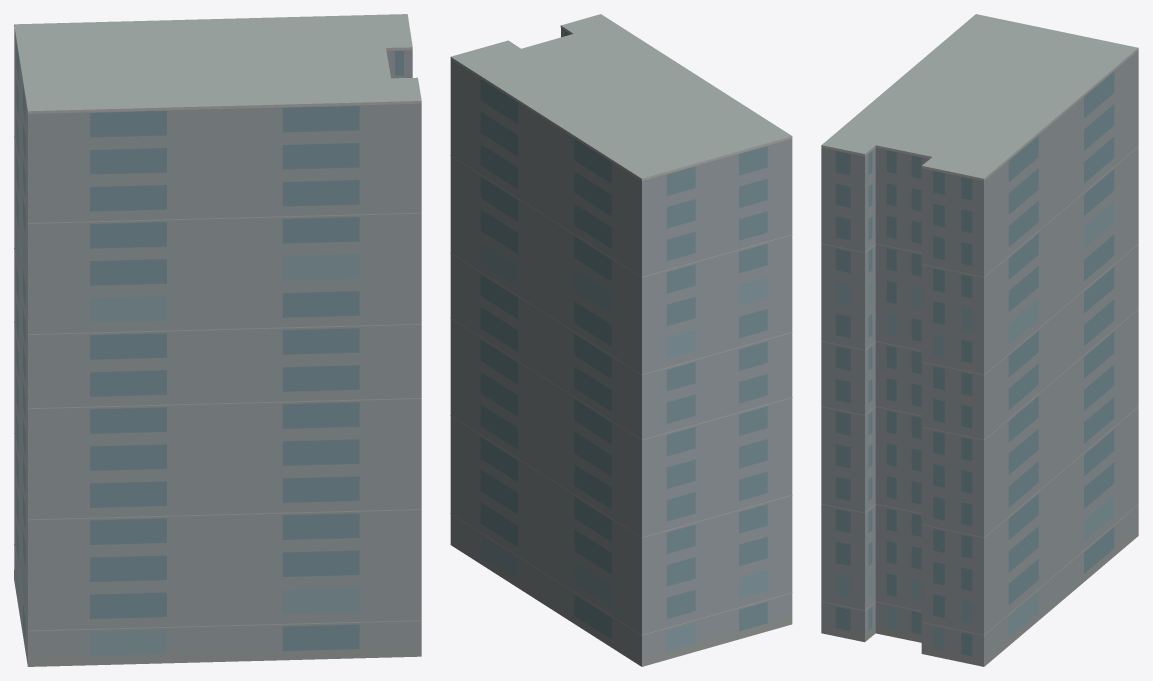
File: survey-upis-32890983.glb
3 renders of one model, left to right at view 1: azimuth 30°, elevation 25°; view 2: azimuth 150°, elevation 25°; view 3: azimuth 270°, elevation 25°, orthographic. The views are drawn at different scales.
Visible parts, largest first — view 1: survey-upis-32890983.tmp; view 2: survey-upis-32890983.tmp; view 3: survey-upis-32890983.tmp.
Part boxes in pixels (x1,y1,x2,y2): survey-upis-32890983.tmp: (14,14,421,666); survey-upis-32890983.tmp: (450,14,792,666); survey-upis-32890983.tmp: (821,14,1138,666).
Bounding box in the file's own units: 36.15 × 49.9 × 29.4.
